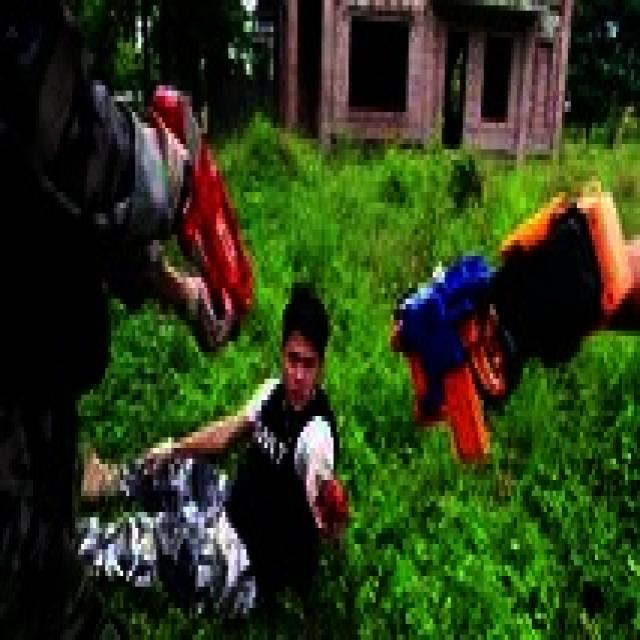Nerf gun: (382, 168, 634, 472), (131, 72, 260, 344)
